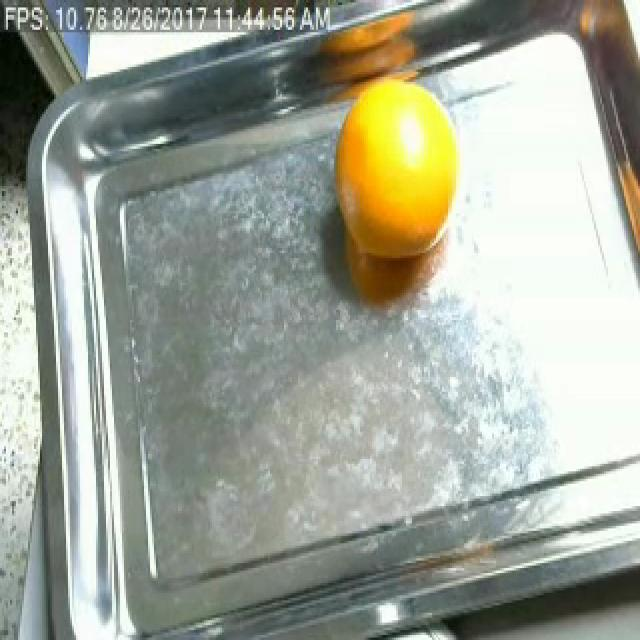Fruit: (322, 64, 486, 325)
